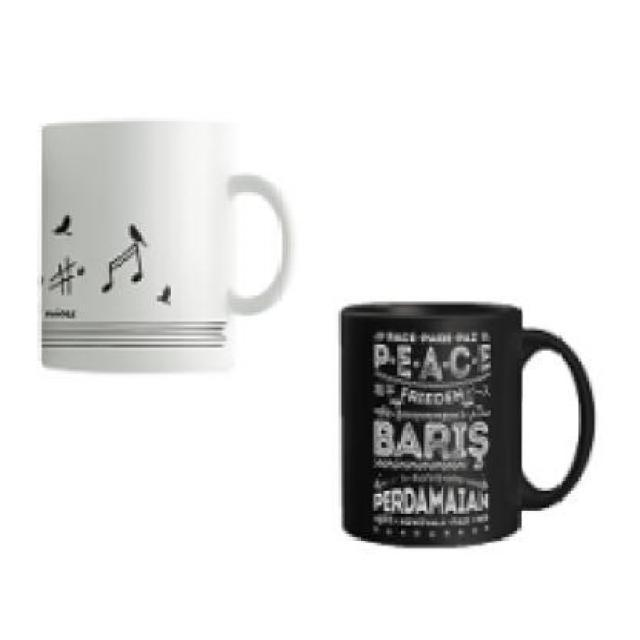taza: (337, 299, 598, 551), (39, 119, 294, 374)
